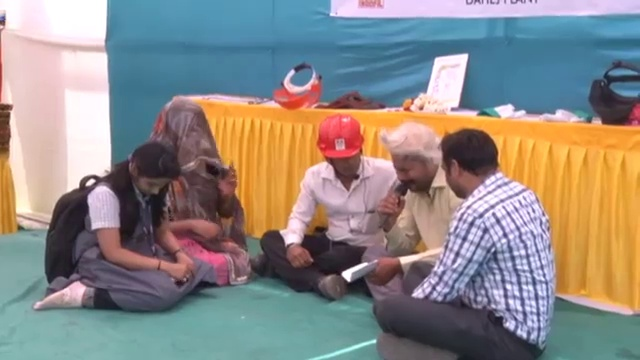helmet: (313, 115, 364, 159)
helmet_off: (438, 128, 506, 205), (385, 122, 442, 197), (158, 105, 214, 175), (119, 140, 183, 199)
helmet_on: (316, 110, 373, 177)
person: (357, 125, 564, 349), (38, 142, 211, 315), (250, 113, 398, 294), (364, 127, 466, 307), (154, 109, 249, 288)
